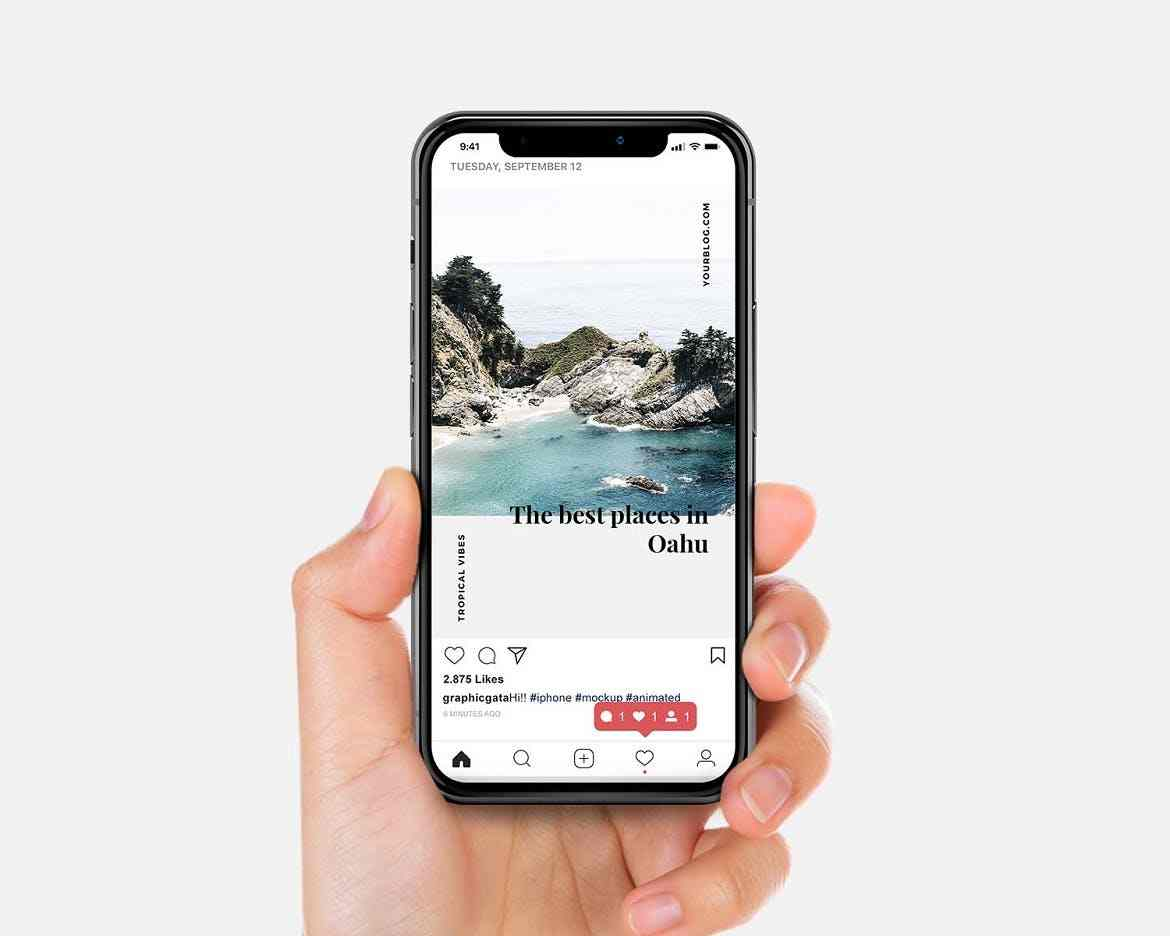phone: (280, 89, 842, 933)
